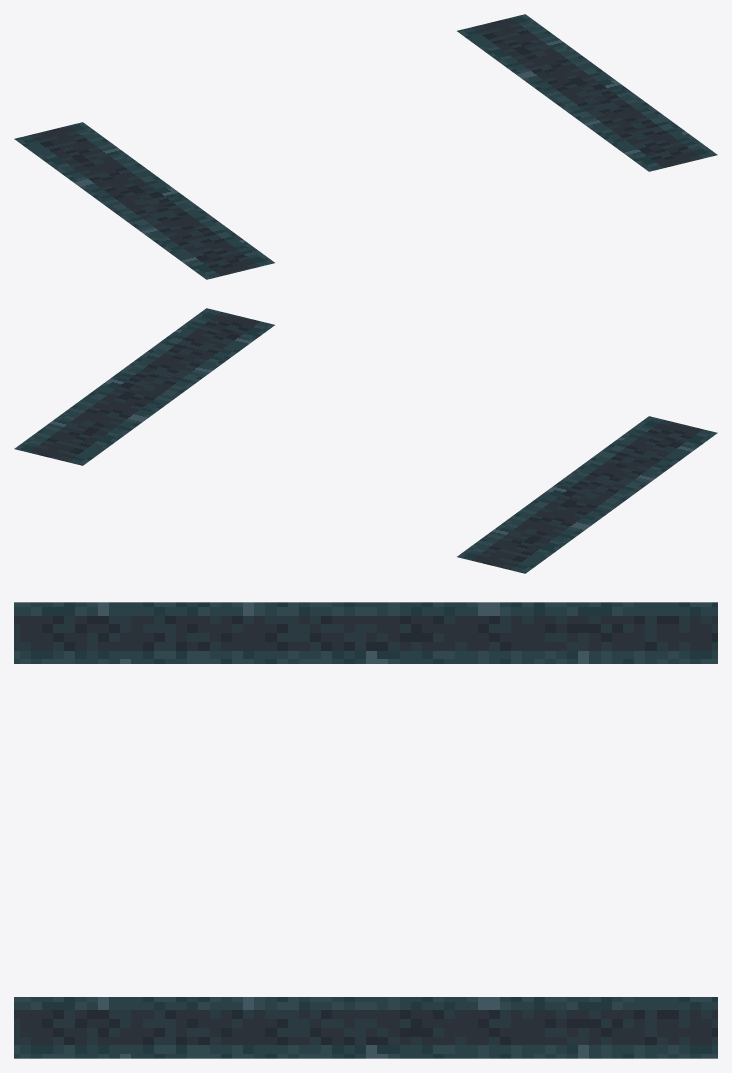
The model's file is special-250.glb.
3 renders of one model, top to bottom at view 1: azimuth 30°, elevation 25°; view 2: azimuth 150°, elevation 25°; view 3: azimuth 270°, elevation 25°, orthographic. The views are drawn at different scales.
Parts seen in each view (by area): view 1: special-250; view 2: special-250; view 3: special-250.
Part boxes in pixels (x1,y1,x2,y2): special-250: (14,14,717,279); special-250: (14,308,717,573); special-250: (14,602,717,1058).
Size of the model in its own units: 0.2246 by 0 by 0.1465.
1 material, 1 textured.
